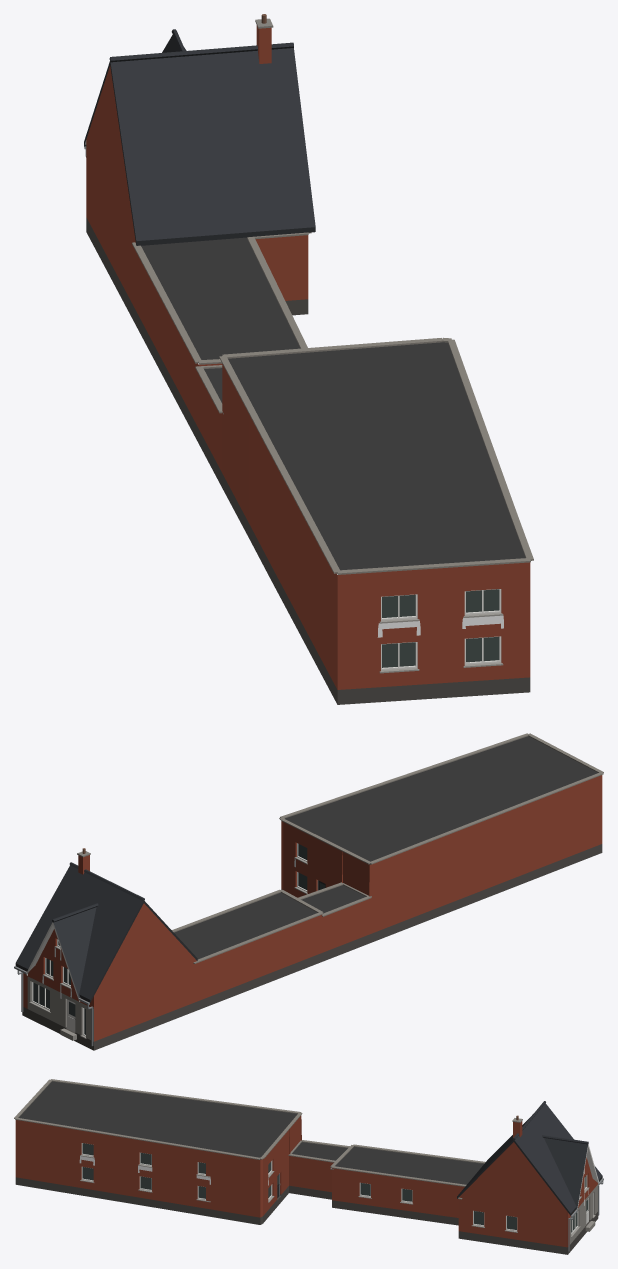
File: vh_front_gable.glb
3 views of the same model, one above another, from view 1: azimuth 30°, elevation 25°; view 2: azimuth 150°, elevation 25°; view 3: azimuth 270°, elevation 25° (orthographic). The views are drawn at different scales.
Visible parts, largest first — view 1: vh_stone, vh_brick, vh_roof, vh_trim, vh_glass, vh_frames_small; view 2: vh_brick, vh_stone, vh_roof, vh_trim, vh_clad, vh_frames_small, vh_glass; view 3: vh_brick, vh_stone, vh_trim, vh_roof, vh_glass, vh_frames_small, vh_clad.
Part boxes in pixels (left/top/right/bottom): vh_stone: left=132, top=14, right=533, bottom=673; vh_brick: left=86, top=25, right=530, bottom=689; vh_roof: left=109, top=29, right=315, bottom=241; vh_trim: left=84, top=60, right=530, bottom=704; vh_glass: left=382, top=589, right=499, bottom=667; vh_frames_small: left=84, top=146, right=501, bottom=669; vh_brick: left=23, top=775, right=602, bottom=1041; vh_stone: left=29, top=733, right=603, bottom=1040; vh_roof: left=16, top=862, right=144, bottom=999; vh_trim: left=15, top=844, right=602, bottom=1050; vh_clad: left=27, top=976, right=93, bottom=1041; vh_frames_small: left=14, top=843, right=318, bottom=1046; vh_glass: left=33, top=844, right=325, bottom=1034; vh_brick: left=15, top=1115, right=597, bottom=1247; vh_stone: left=14, top=1079, right=595, bottom=1237; vh_trim: left=15, top=1140, right=602, bottom=1254; vh_roof: left=458, top=1101, right=602, bottom=1213; vh_glass: left=82, top=1143, right=588, bottom=1232; vh_frames_small: left=81, top=1143, right=603, bottom=1251; vh_clad: left=570, top=1184, right=597, bottom=1244.
Size of the model in its own units: 21.18 by 11.16 by 47.28.
